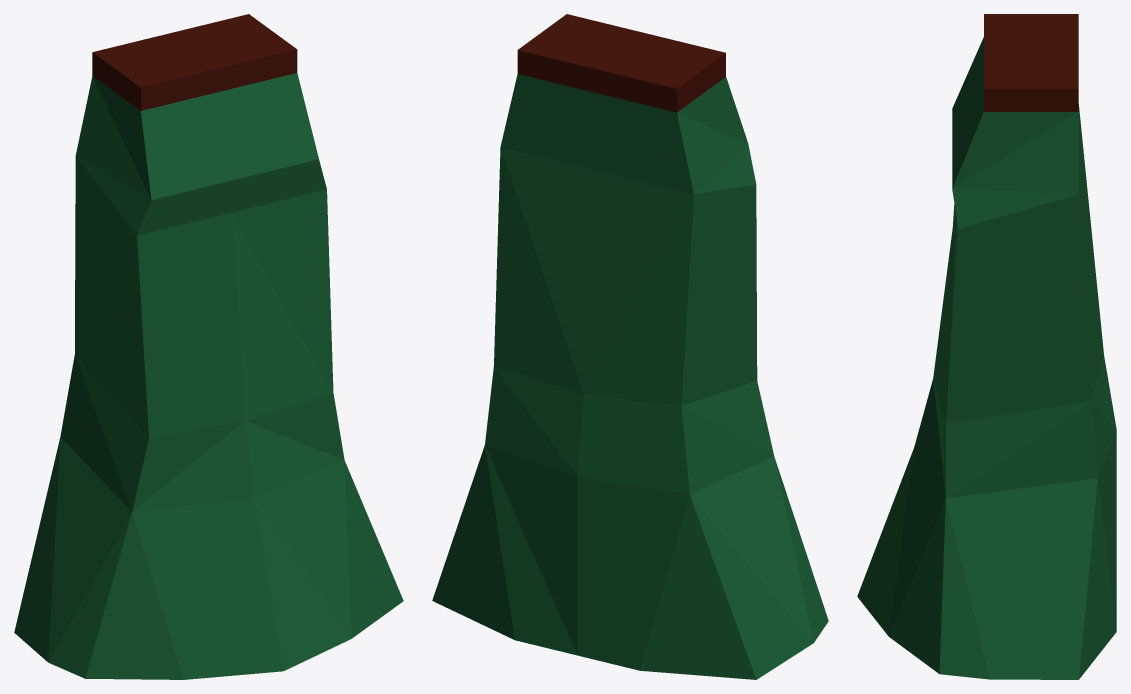
File: player_female_legs_74_0.obj
3 views of the same model, side by side, from view 1: azimuth 30°, elevation 25°; view 2: azimuth 150°, elevation 25°; view 3: azimuth 270°, elevation 25° (orthographic). The views are drawn at different scales.
Size of the model in its own units: 0.4766 by 0.75 by 0.3203.
